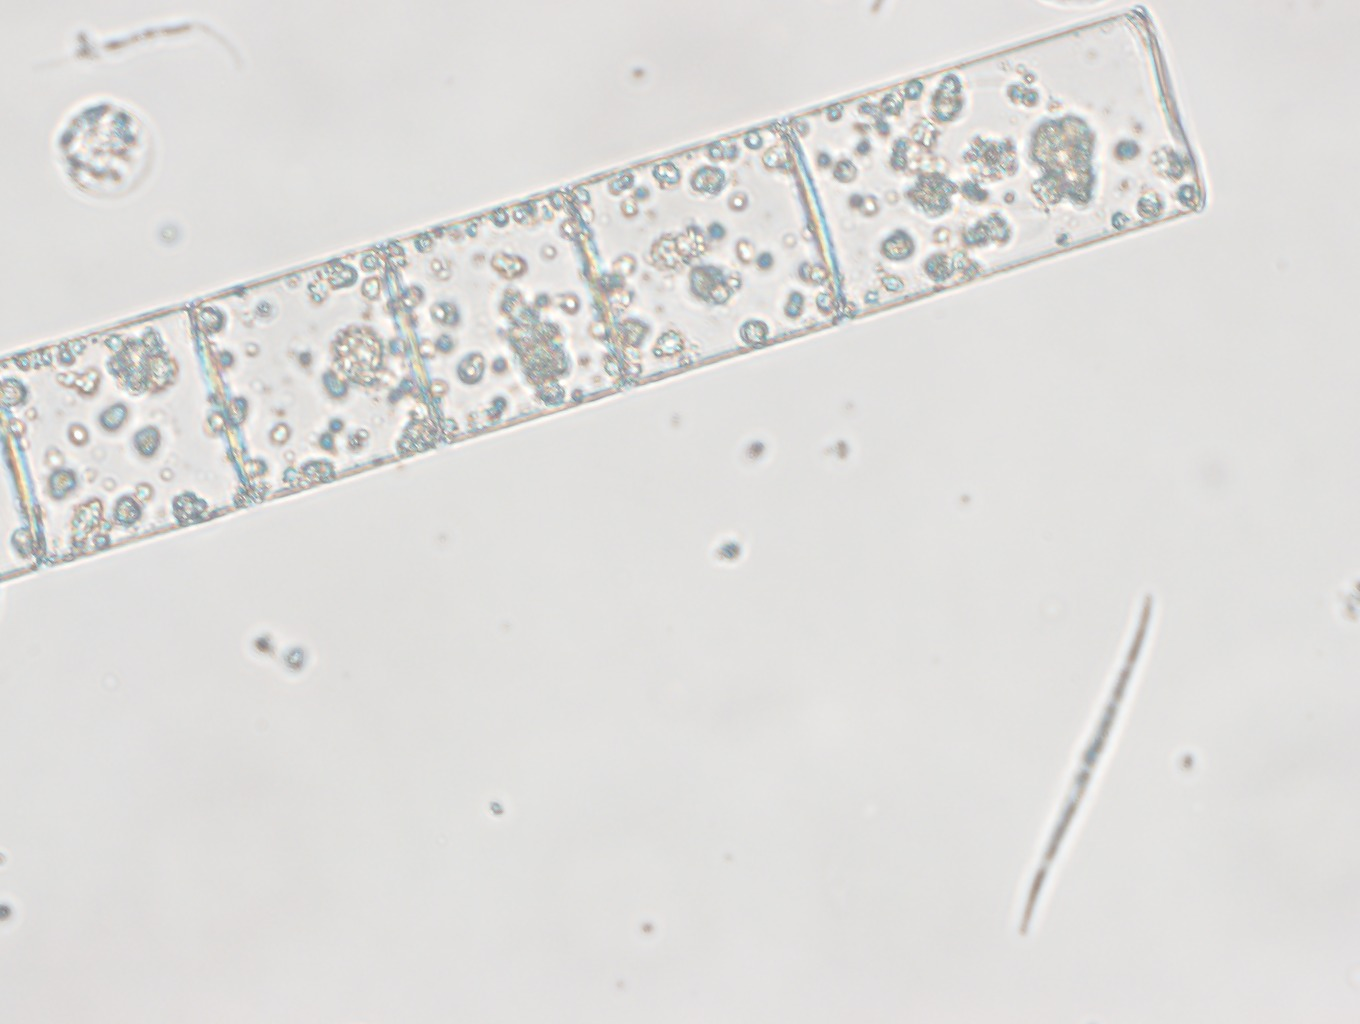guinardia flaccida: (1, 1, 1207, 579)
pleurosigma pelagicum: (1022, 596, 1151, 943)
